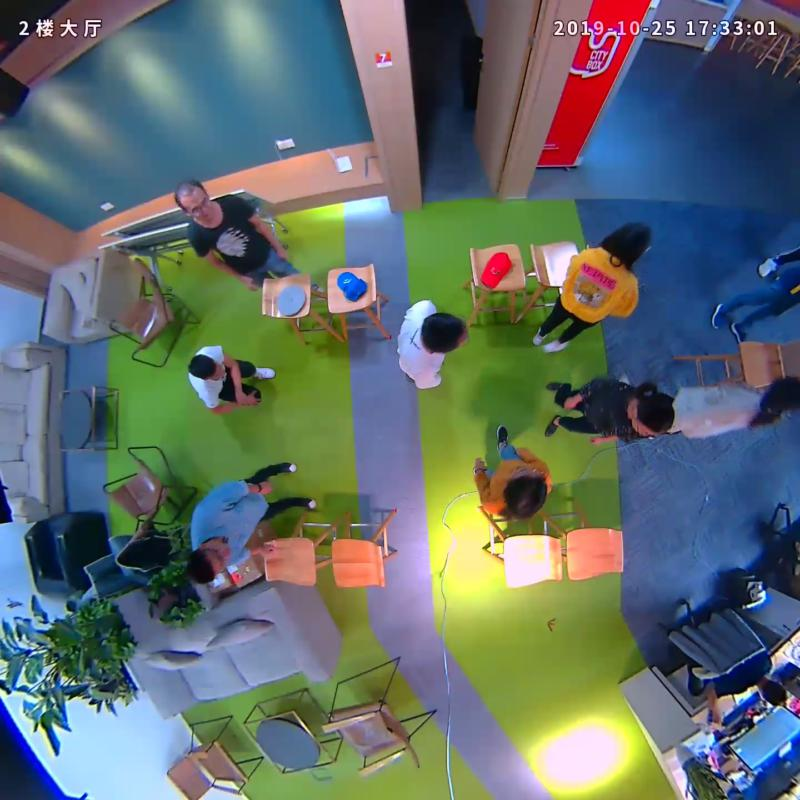head: (414, 302, 481, 357), (621, 385, 681, 441), (599, 217, 659, 271), (495, 467, 550, 521), (174, 537, 229, 588), (167, 178, 220, 226), (180, 349, 234, 391), (756, 377, 800, 426)
